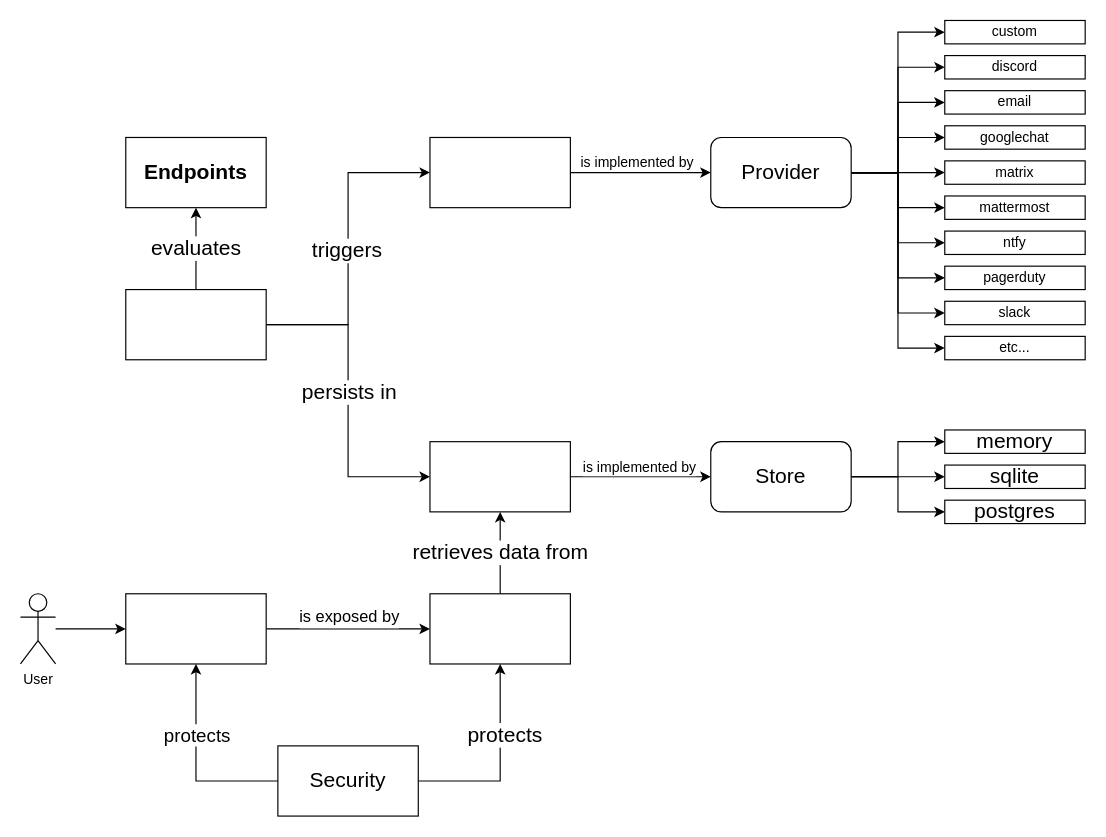
This 1106x837 diagram has some shape labels left out. Each missing label, with the centre of its shape:
Alerting: pixel 499 172
Controllers: pixel 499 628
Storage: pixel 499 476
UI: pixel 195 628
Watchdog: pixel 195 324
